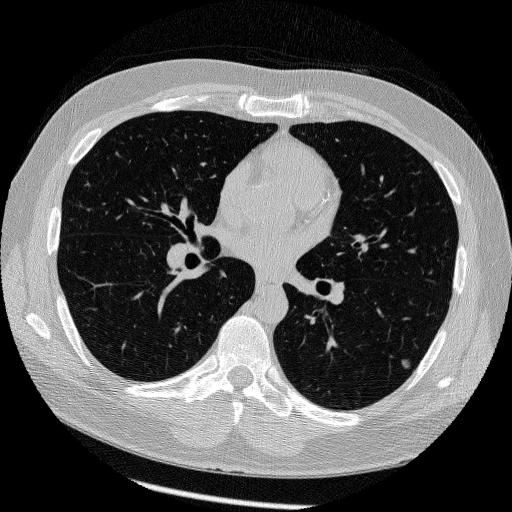nodule: (398, 356, 413, 371)
